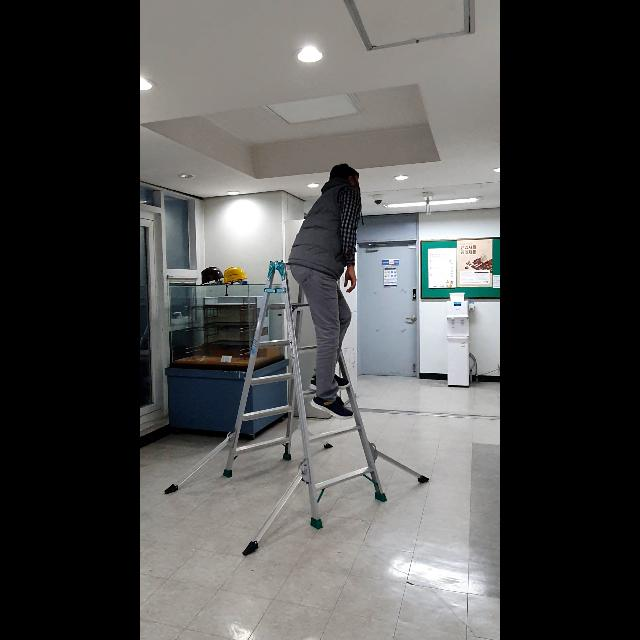boots: (160, 258, 432, 560)
vest: (285, 162, 365, 420)
